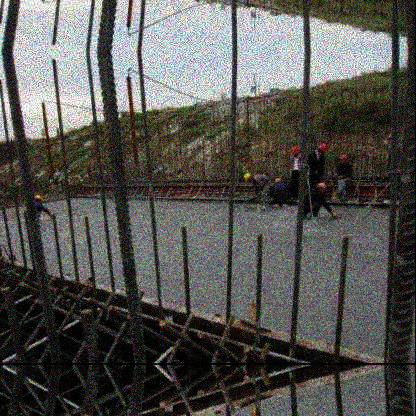helmet: (315, 144, 328, 155), (339, 154, 349, 166), (315, 183, 325, 194), (35, 193, 44, 205), (244, 172, 253, 183), (291, 147, 299, 158)
